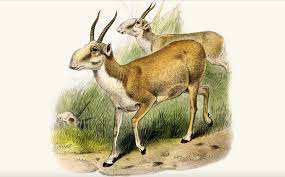saiga: (69, 7, 214, 167), (117, 2, 236, 77)
